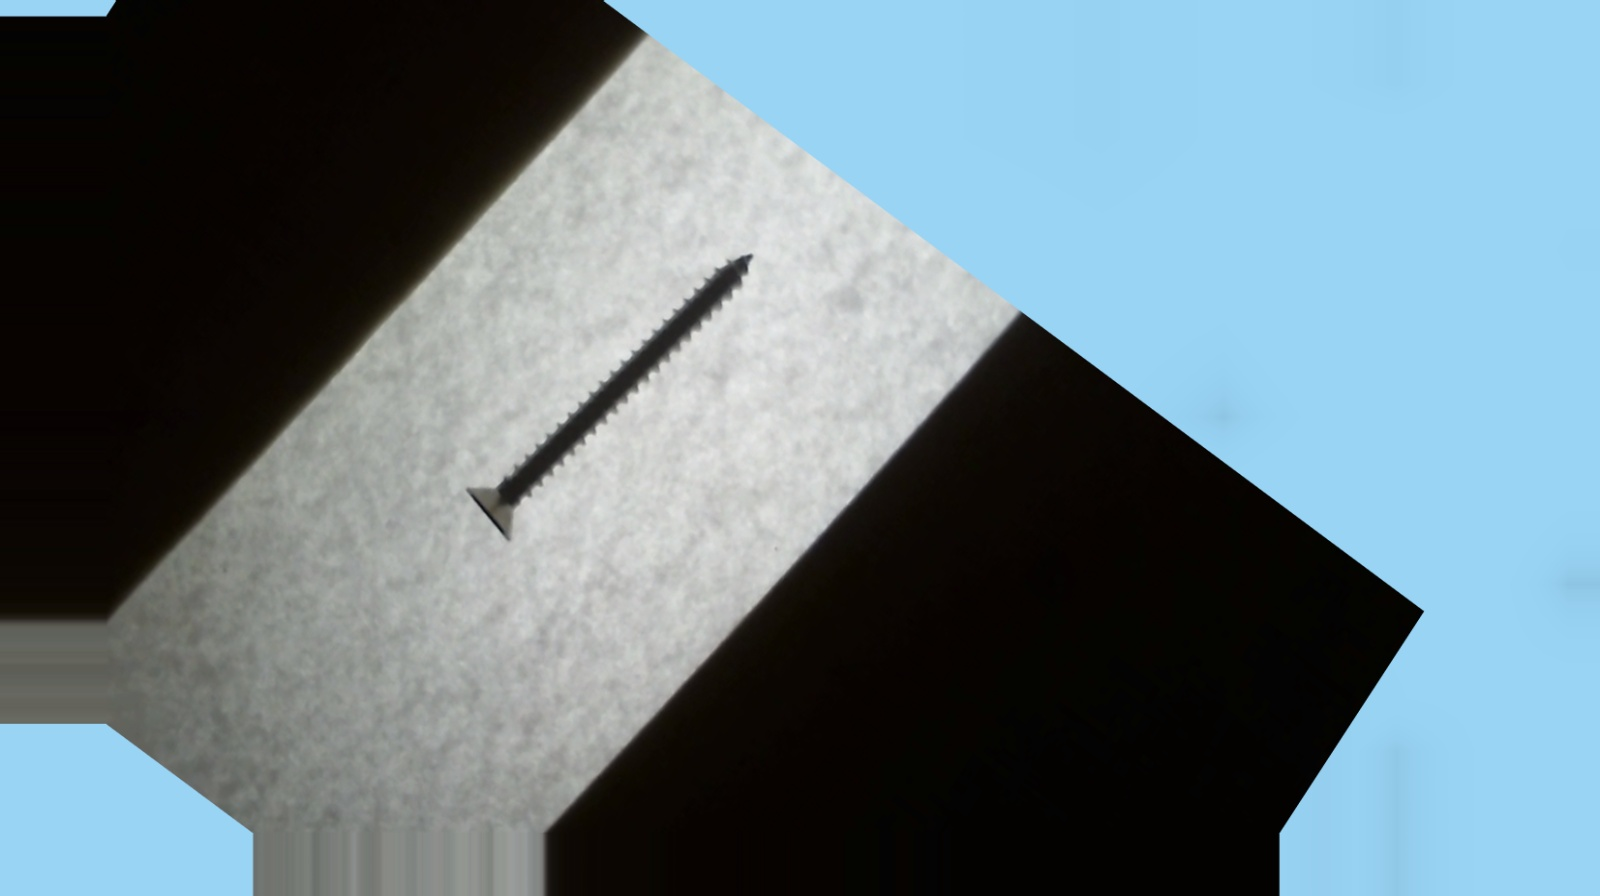S002: (429, 161, 793, 602)
